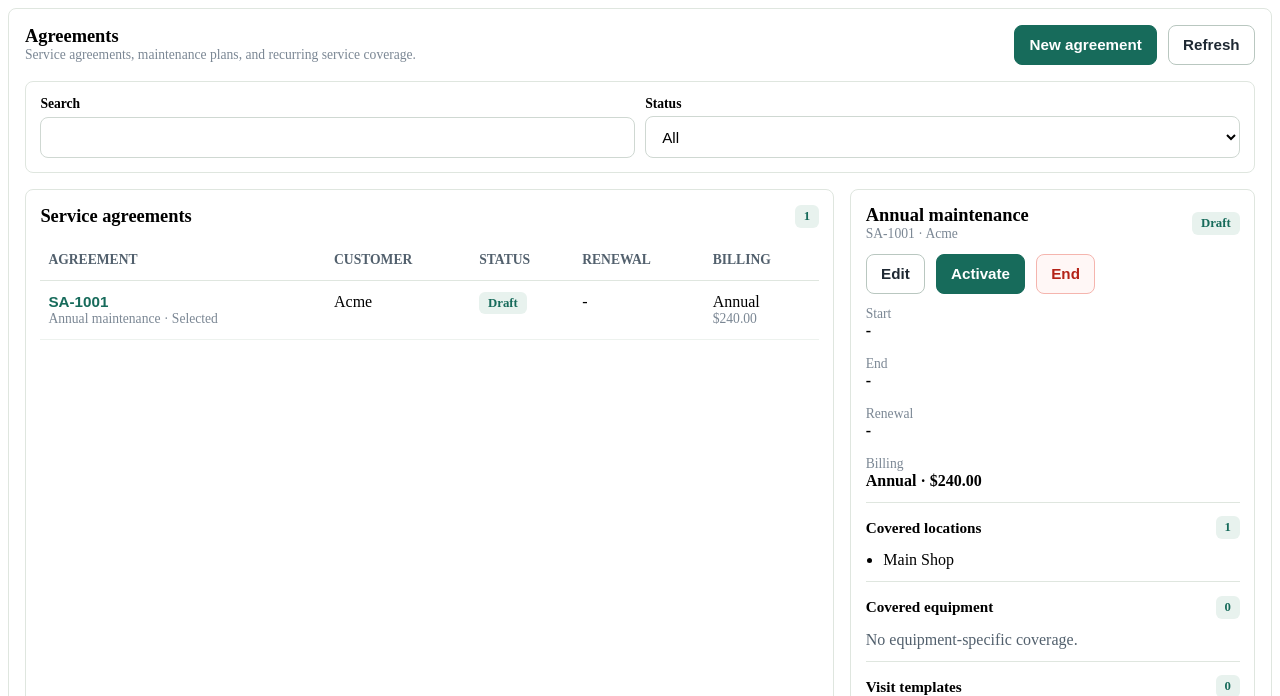
OfficeAgreementsSurface › loads edit reference data for the selected agreement before opening the form
Click the button "Edit". click: click(895, 274)
box: [866,254,925,294]
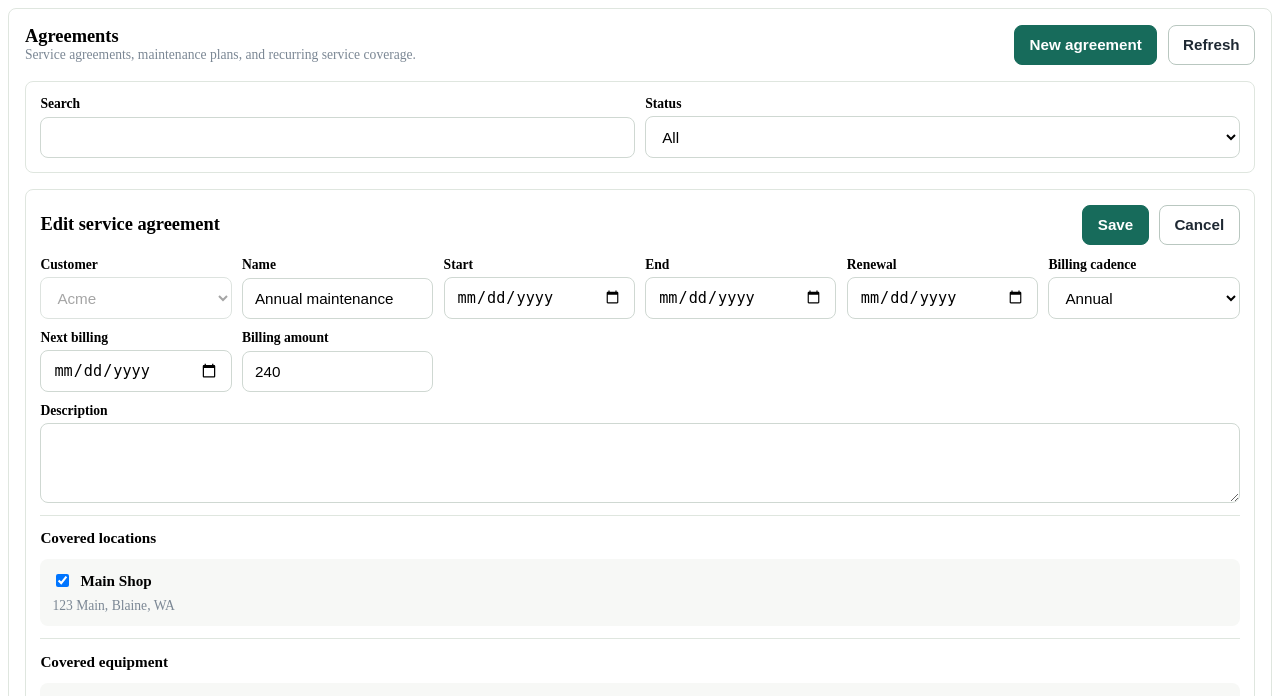
Expected: the field labelled "Name" holds "Annual maintenance", [242,278,433,319]
